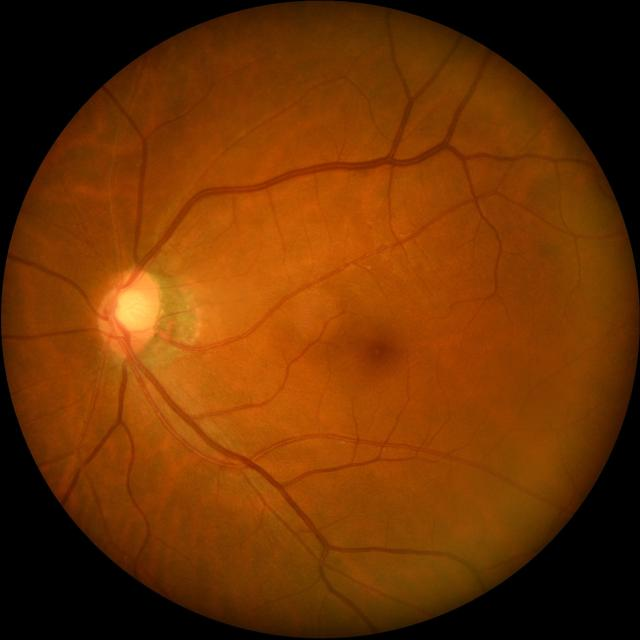OC: (114, 288, 150, 334)
OD: (98, 268, 162, 356)
